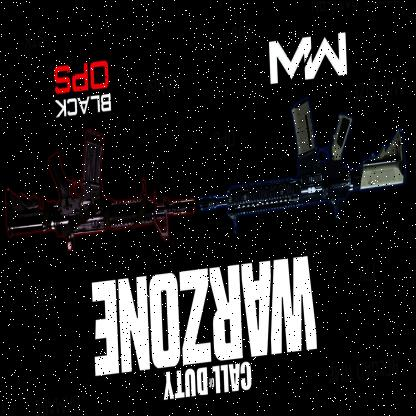rifle: (196, 86, 408, 241), (1, 122, 196, 260)
